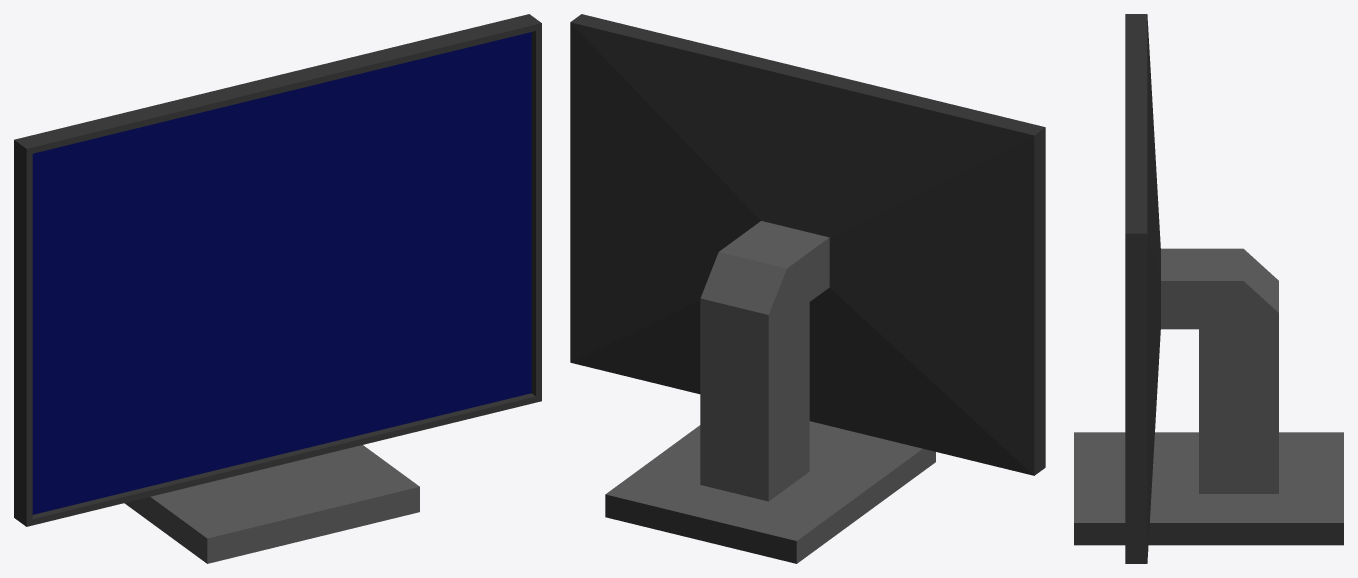
Rendered from Monitor.fbx.
The picture shows the model from 3 angles, left to right: view 1: azimuth 30°, elevation 25°; view 2: azimuth 150°, elevation 25°; view 3: azimuth 270°, elevation 25°; orthographic projection. The views are drawn at different scales.
Visible parts, largest first — view 1: Cube; view 2: Cube; view 3: Cube.
Part boxes in pixels (x1=…): Cube: x1=14, y1=14, x2=541, y2=563; Cube: x1=570, y1=14, x2=1045, y2=563; Cube: x1=1074, y1=14, x2=1343, y2=563.
Size of the model in its own units: 277 by 221 by 144.
